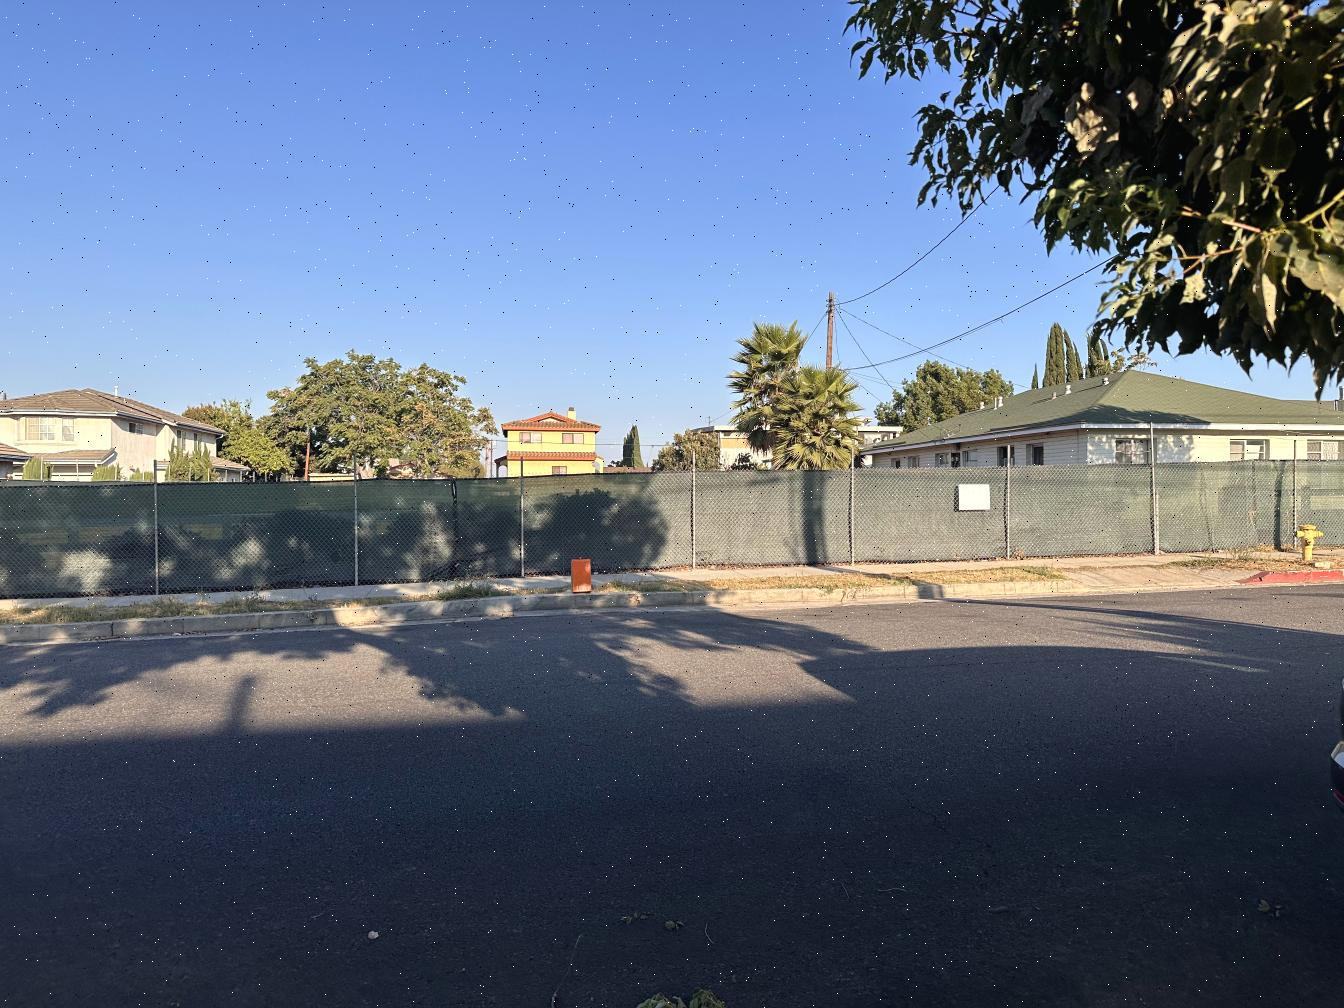curbs-laRr: (272, 592, 571, 631), (564, 584, 918, 613), (4, 612, 270, 647)
orange box: (570, 557, 594, 593)
